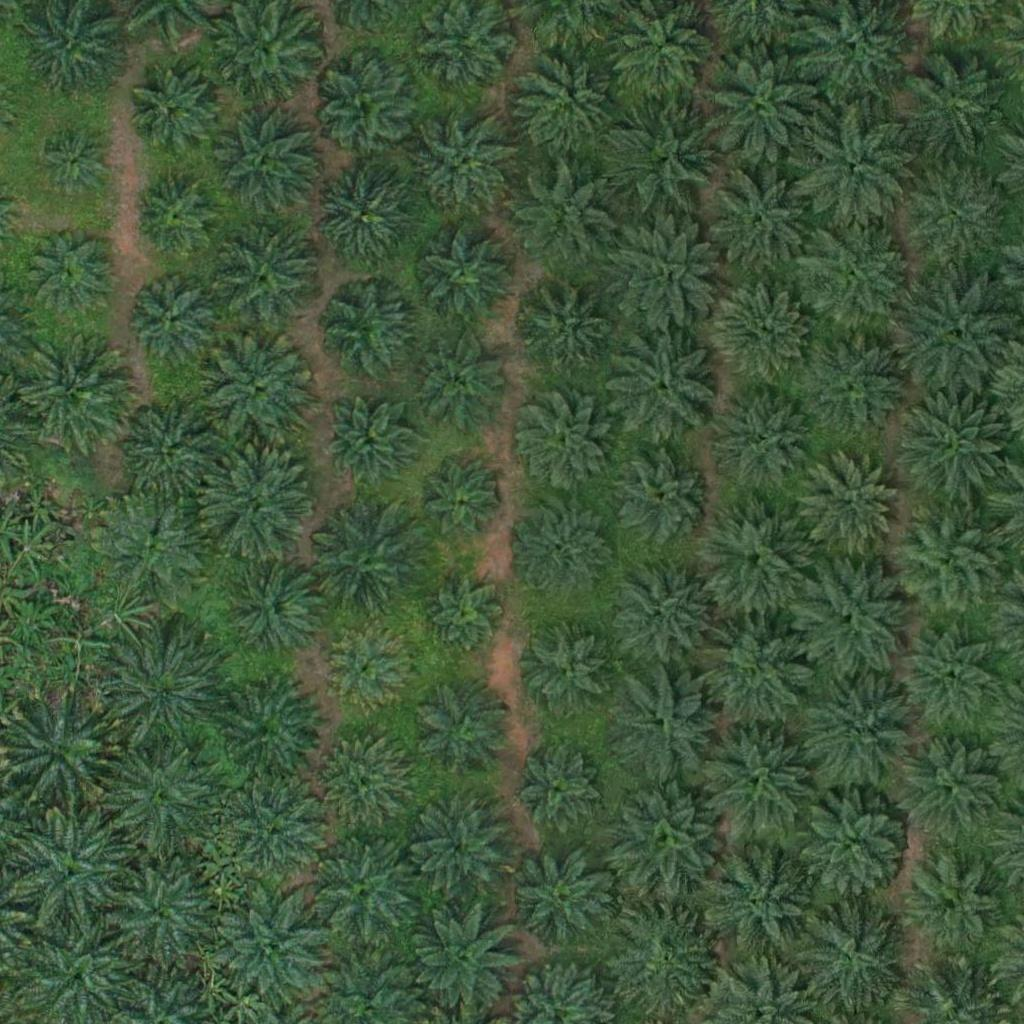Kelapa_Sawit: (901, 47, 1014, 161), (15, 333, 128, 447), (212, 672, 325, 786), (217, 777, 330, 891), (309, 831, 422, 945), (407, 902, 520, 1016), (890, 503, 1003, 617), (898, 160, 1011, 273), (903, 279, 1016, 392), (896, 391, 1009, 504), (800, 113, 913, 226), (605, 215, 718, 328), (605, 331, 718, 444), (603, 443, 716, 556), (207, 103, 320, 216), (213, 218, 326, 331), (604, 556, 717, 669), (610, 669, 723, 782), (610, 783, 723, 896), (700, 724, 813, 837), (702, 850, 815, 963), (197, 444, 309, 558), (114, 394, 226, 508), (111, 635, 223, 749), (107, 739, 219, 853), (220, 890, 332, 1004), (801, 219, 913, 332), (799, 332, 911, 445), (706, 50, 818, 163), (703, 161, 815, 274), (609, 109, 721, 222), (411, 109, 523, 222), (206, 334, 318, 447), (7, 695, 119, 808), (17, 813, 129, 926), (313, 509, 425, 622), (611, 905, 723, 1018), (696, 502, 808, 615), (699, 618, 811, 731), (798, 562, 910, 675), (804, 674, 916, 787), (798, 786, 910, 899), (793, 899, 905, 1012), (897, 729, 1009, 842), (802, 451, 902, 552), (710, 283, 810, 384), (715, 389, 815, 490), (513, 53, 613, 154), (510, 166, 610, 267), (512, 279, 612, 380), (413, 226, 513, 327), (315, 56, 415, 157), (310, 161, 410, 262), (316, 275, 416, 376), (123, 272, 223, 373), (112, 859, 212, 960), (225, 559, 325, 660), (415, 675, 515, 776), (410, 800, 510, 901), (516, 625, 616, 726), (509, 848, 609, 949), (906, 852, 1006, 953), (513, 395, 613, 495), (513, 499, 613, 599), (411, 331, 511, 431), (103, 496, 203, 596), (901, 630, 1001, 730), (130, 69, 218, 157), (133, 175, 221, 263), (27, 228, 115, 316), (322, 628, 410, 716), (423, 568, 511, 656), (513, 744, 601, 832), (324, 397, 411, 485), (322, 733, 409, 821), (36, 125, 111, 201), (423, 463, 498, 539)
